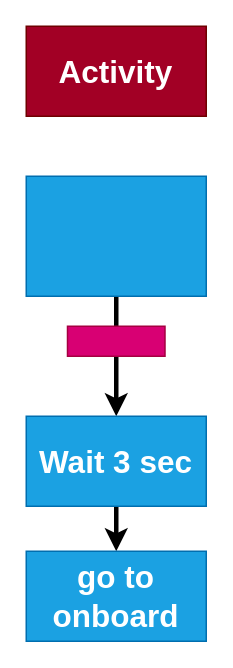
Image size: 233x668. Some labels were removed from this diagram. The shapes that lost their labels are listed below. From the top down, each one's centre as x and y in pixels, then its label:
At pixel 115 235: "Start Splash (stateful)".
At pixel 115 340: "initState".
